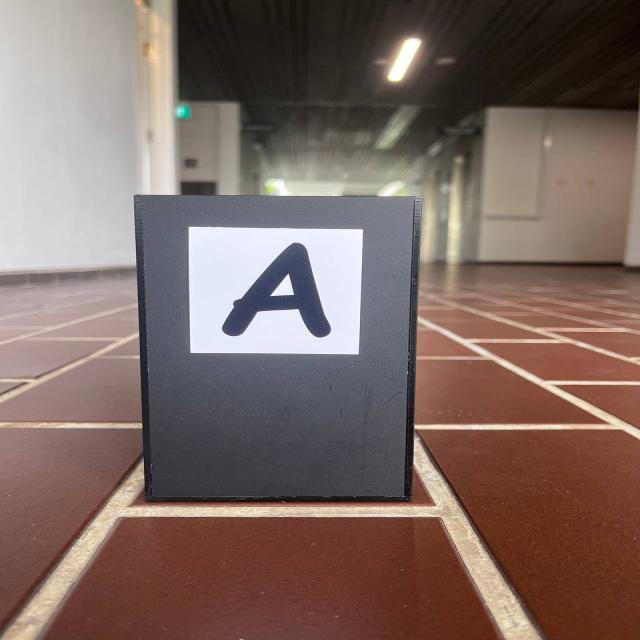A_id20: (189, 227, 362, 355)
